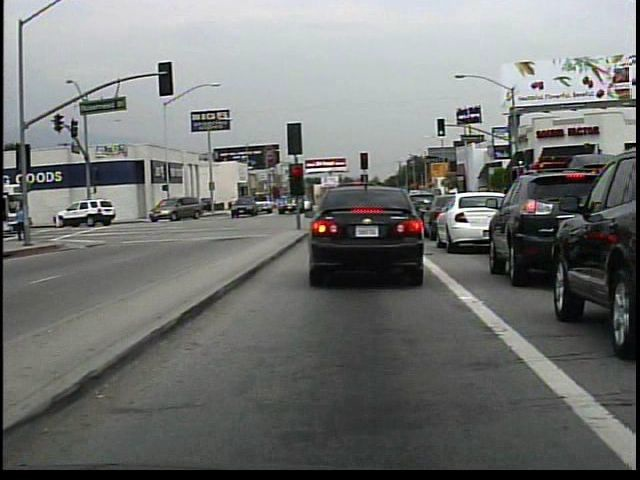person: (14, 203, 37, 245), (229, 192, 239, 206)
